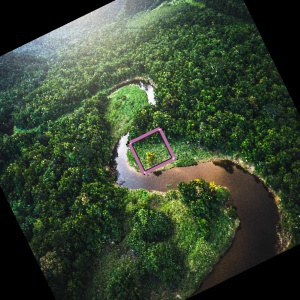square: (126, 125, 177, 175)
